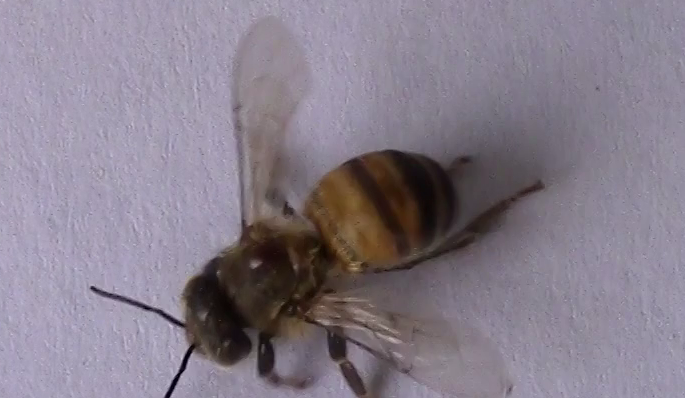Varroa destructor: (241, 241, 292, 275)
